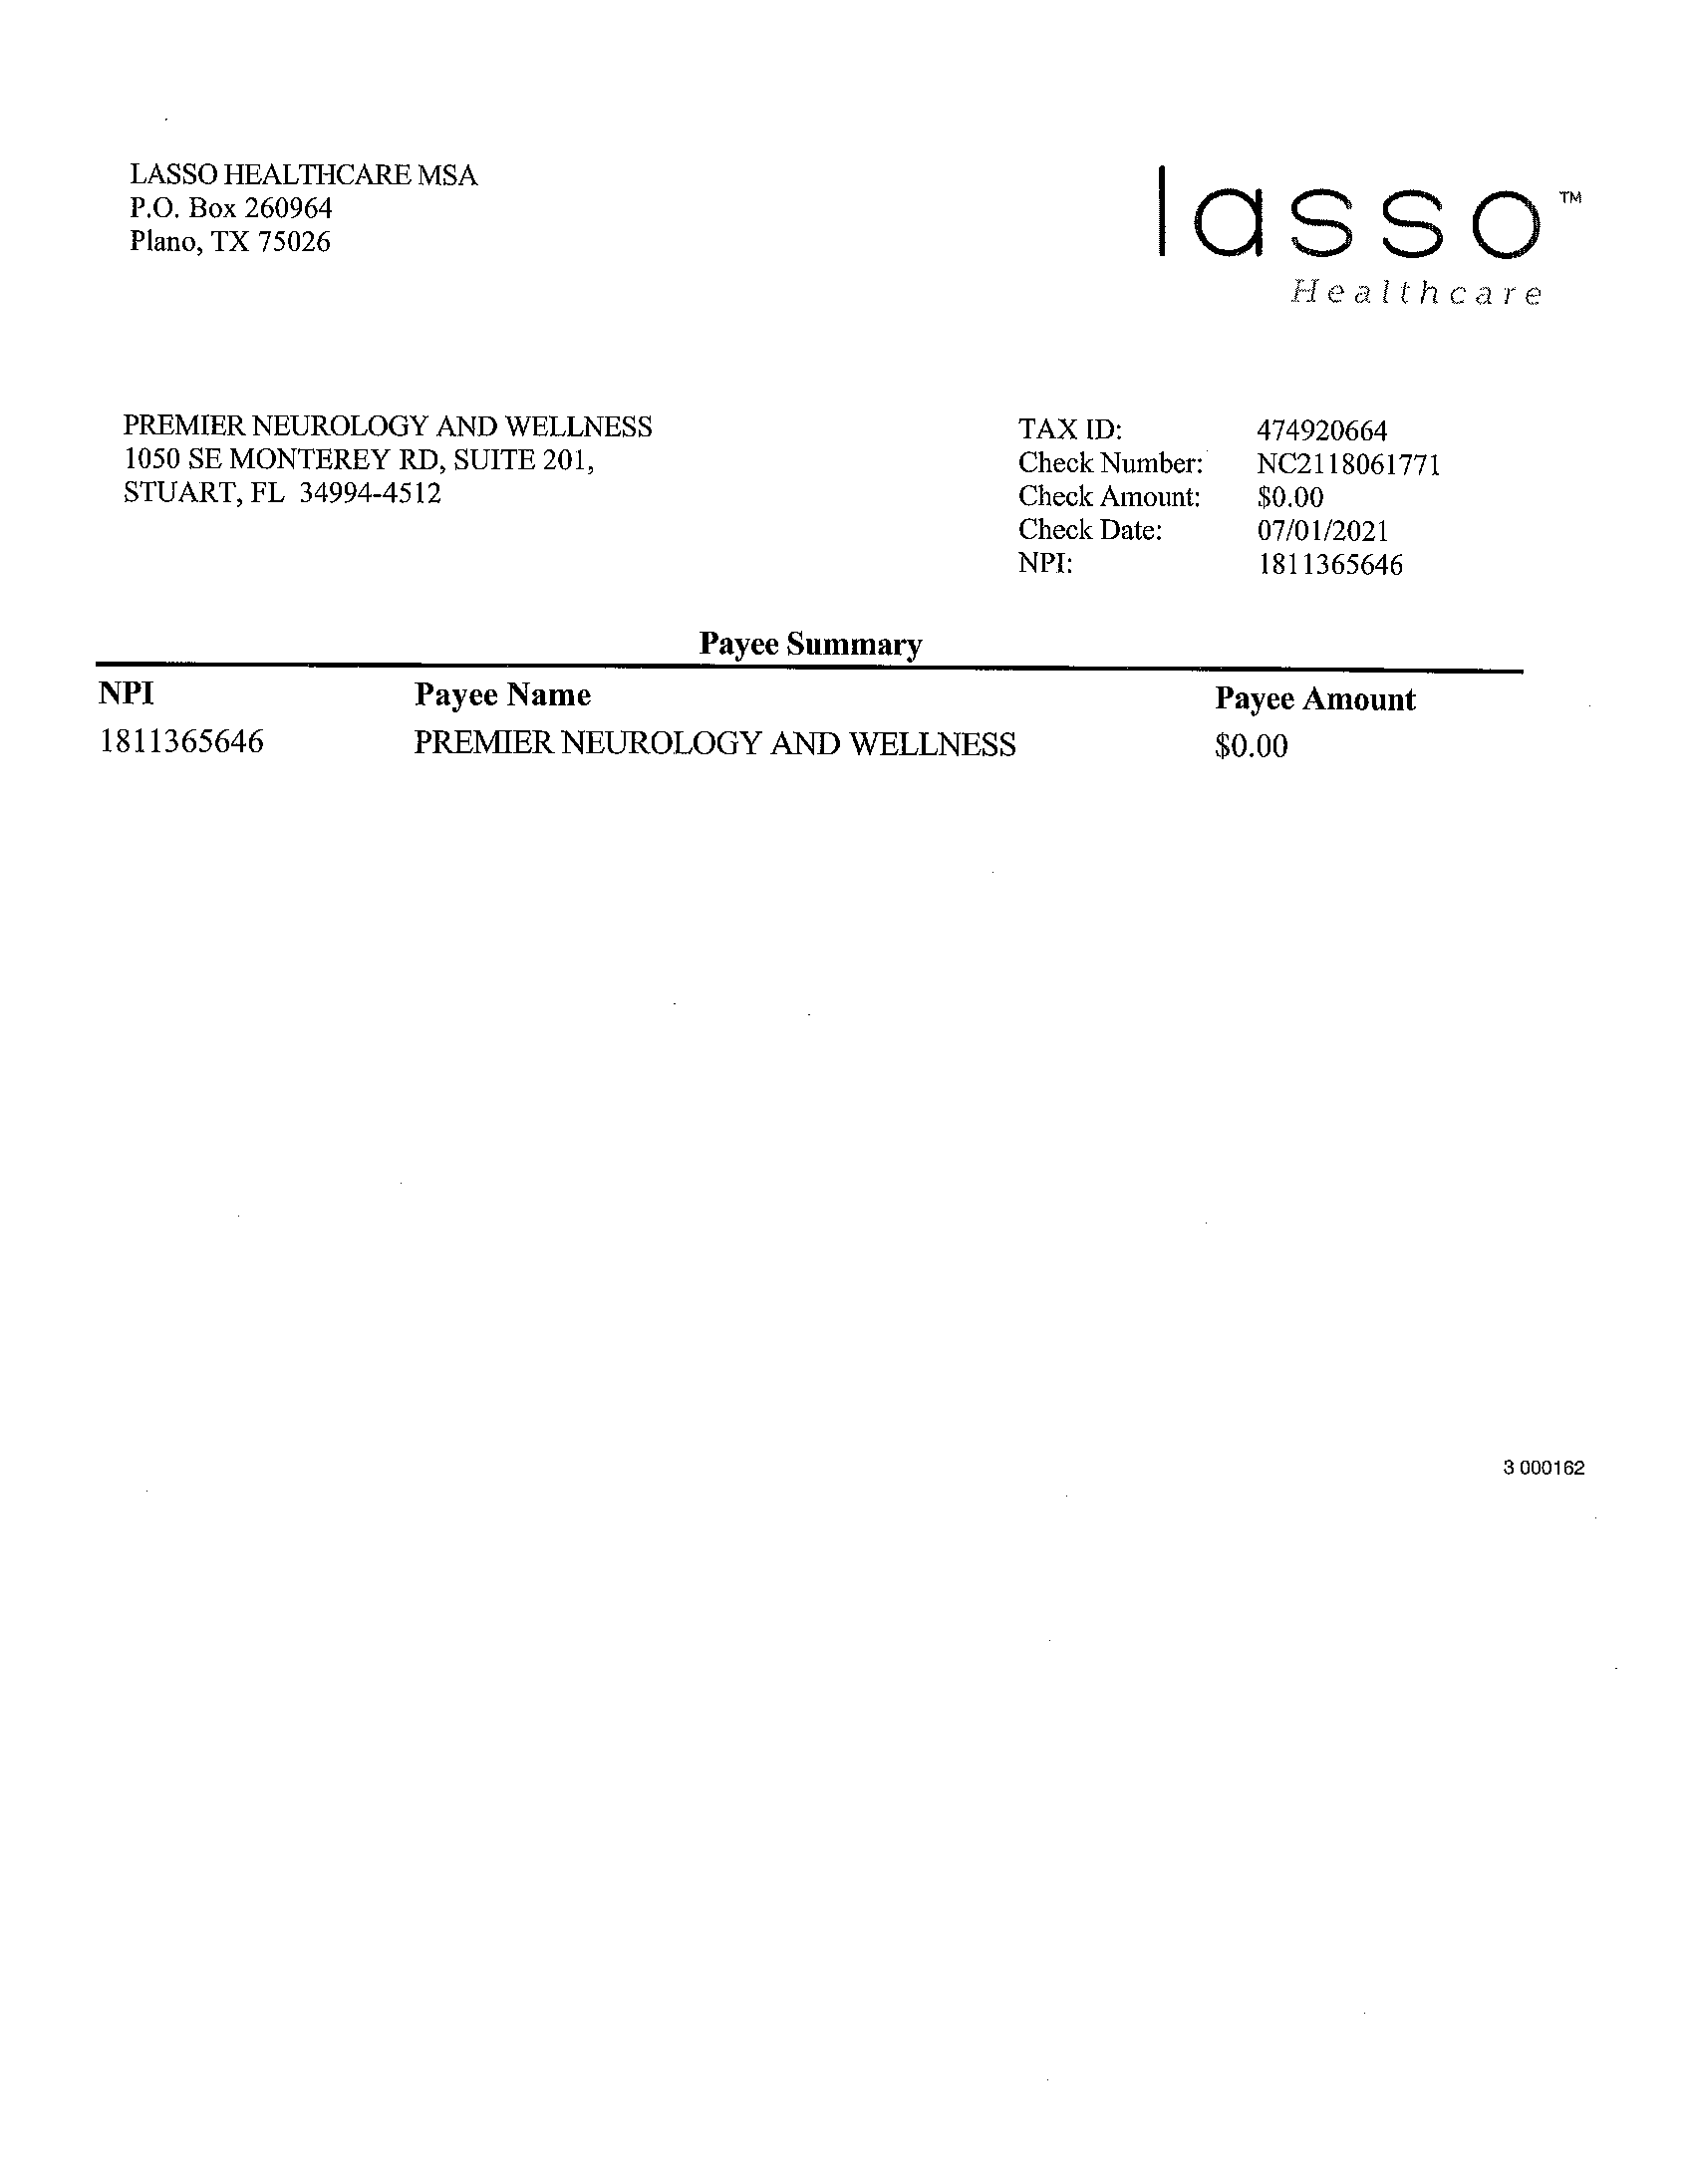data: (997, 390, 1452, 601)
table: (80, 661, 1550, 789)
